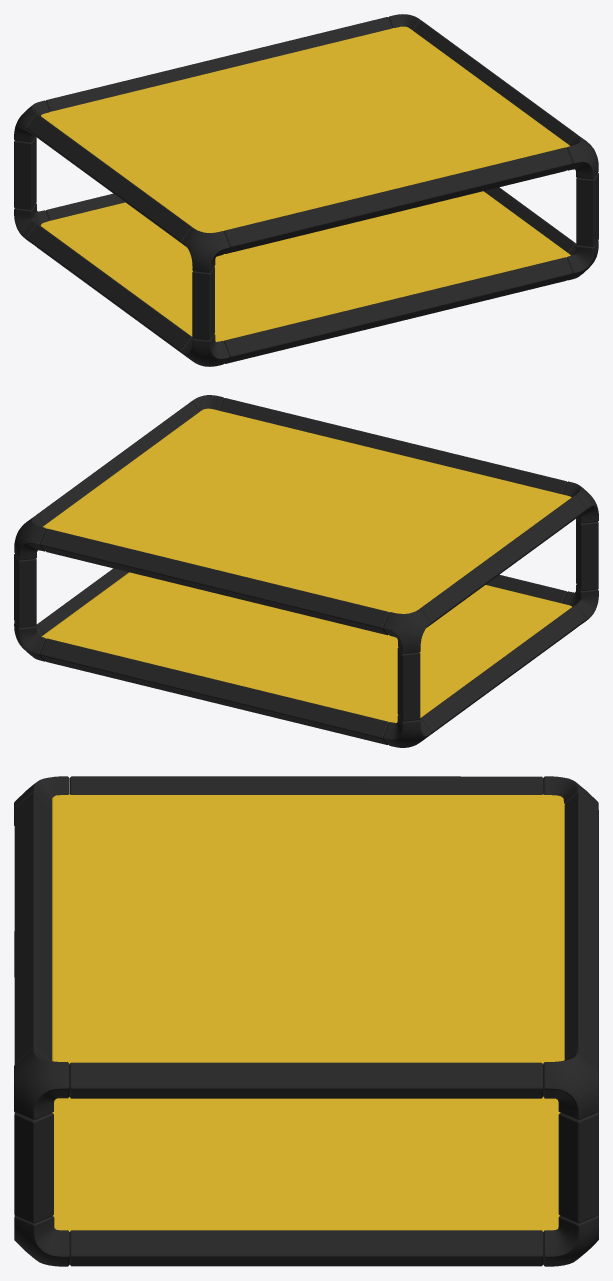
The picture shows the model from 3 angles, top to bottom: view 1: azimuth 30°, elevation 25°; view 2: azimuth 150°, elevation 25°; view 3: azimuth 270°, elevation 25°; orthographic projection. The views are drawn at different scales.
Visible parts, largest first — view 1: 420x329x79; view 2: 420x329x79; view 3: 420x329x79.
Part boxes in pixels (<box>): 420x329x79: <box>14,14,598,366</box>; 420x329x79: <box>14,395,598,747</box>; 420x329x79: <box>14,776,598,1266</box>.
Size of the model in its own units: 0.4977 by 0.1566 by 0.4063.
